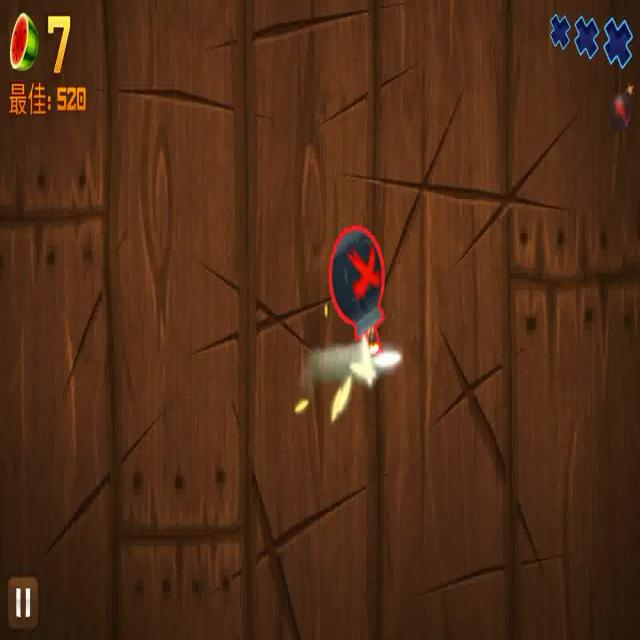bomb: (297, 224, 402, 426)
